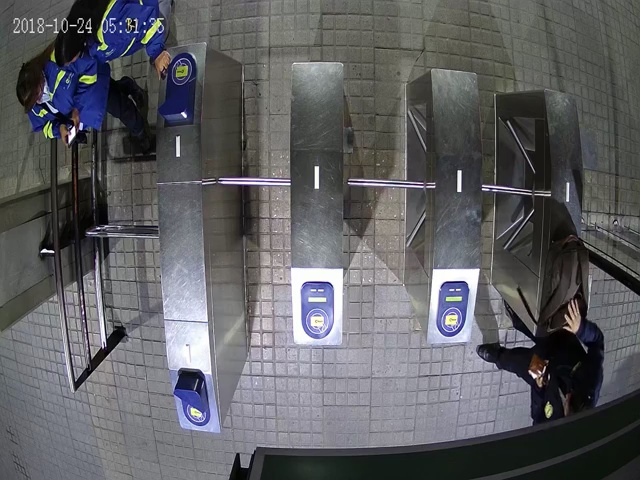Chaleco_azul: (15, 43, 146, 145), (52, 1, 172, 77)
